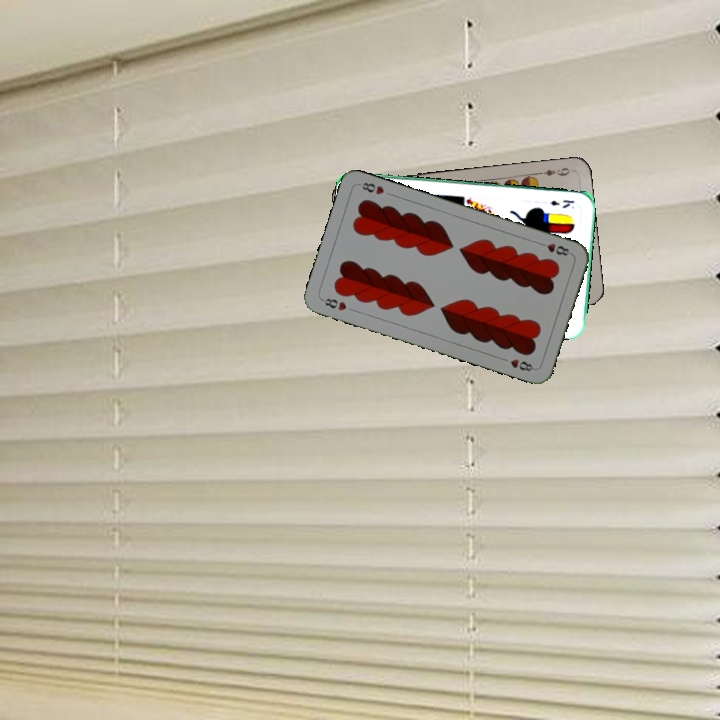E9: (534, 164, 575, 179)
EK: (546, 196, 576, 211)
H8: (534, 238, 574, 258), (318, 294, 349, 313)
